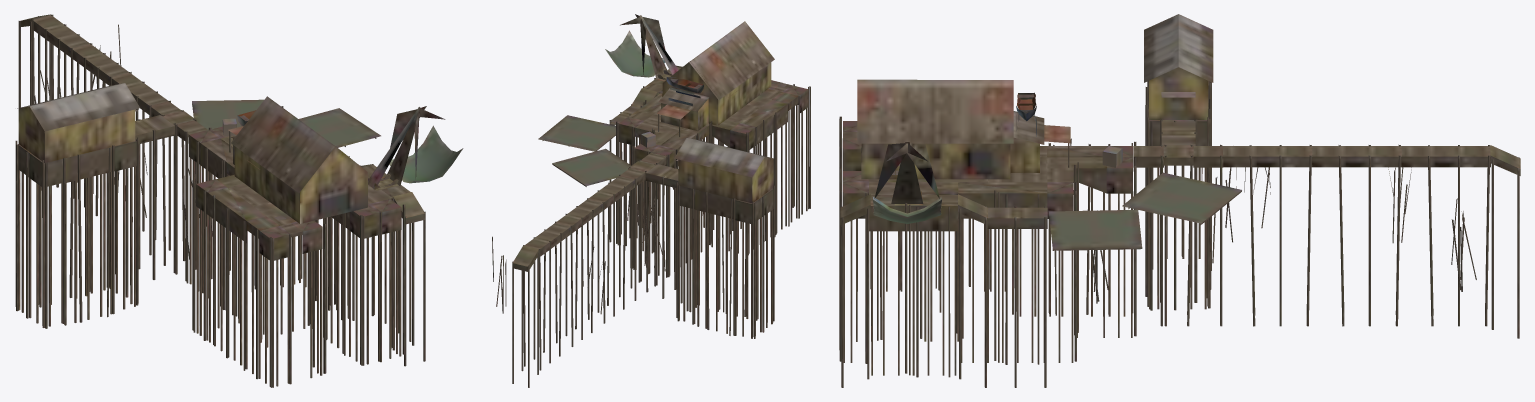
Rendered from fishing_village_b.glb.
3 renders of one model, left to right at view 1: azimuth 30°, elevation 25°; view 2: azimuth 150°, elevation 25°; view 3: azimuth 270°, elevation 25°, orthographic. The views are drawn at different scales.
Visible parts, largest first — view 1: fishing_village_b_hlod; view 2: fishing_village_b_hlod; view 3: fishing_village_b_hlod.
Boxes of the visible parts, <box> form: fishing_village_b_hlod: <box>15,14,463,387</box>; fishing_village_b_hlod: <box>492,14,810,387</box>; fishing_village_b_hlod: <box>839,14,1520,387</box>.
Bounding box in the file's own units: 40.33 × 30.31 × 68.76.
Materials: 1 (1 with a texture image).
